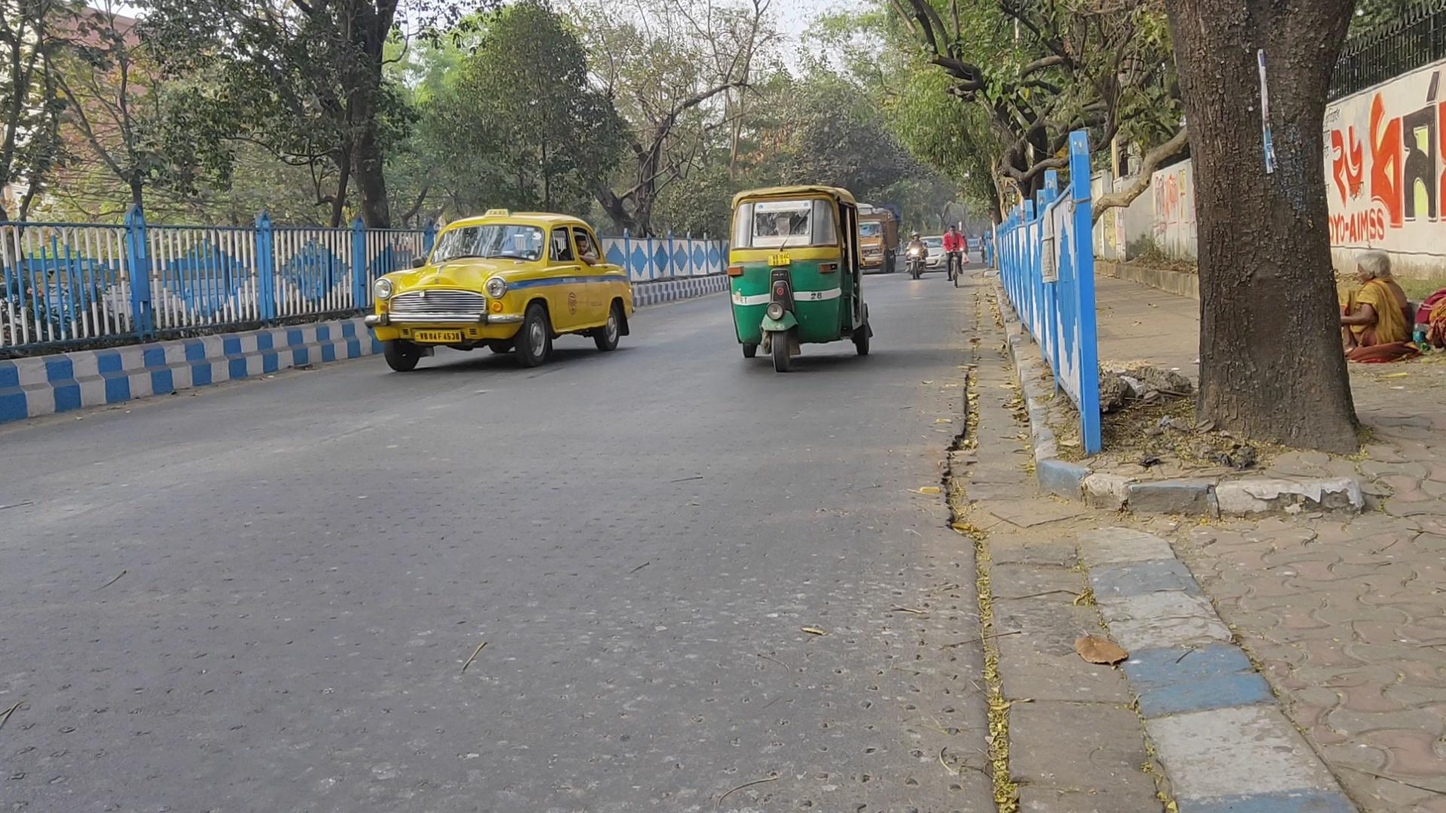Auto: (728, 184, 874, 373)
bike: (942, 225, 967, 289), (905, 231, 929, 281)
car: (369, 207, 634, 373), (919, 235, 950, 275)
truck: (859, 202, 898, 276)
